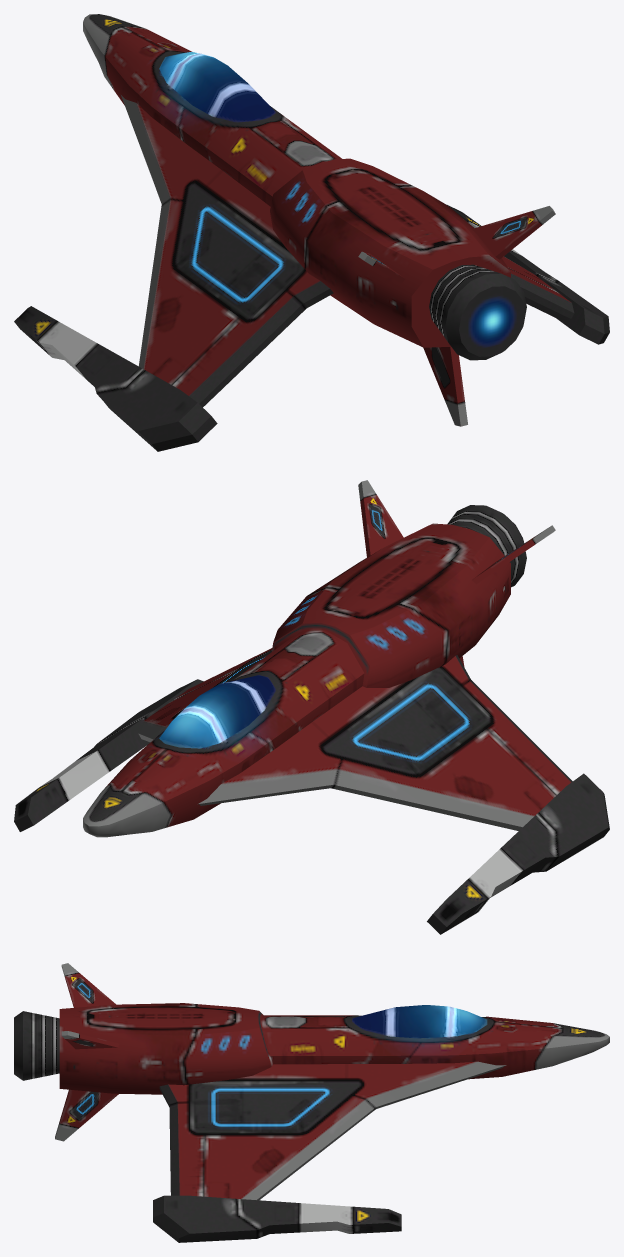
File: scout13.gltf
3 renders of one model, top to bottom at view 1: azimuth 30°, elevation 25°; view 2: azimuth 150°, elevation 25°; view 3: azimuth 270°, elevation 25°, orthographic. The views are drawn at different scales.
Visible parts, largest first — view 1: scout13; view 2: scout13; view 3: scout13.
Part boxes in pixels (<box>): scout13: <box>14,14,609,451</box>; scout13: <box>14,480,609,934</box>; scout13: <box>14,963,609,1242</box>.
Bounding box in the file's own units: 7.15 × 3.25 × 10.6.
1 material, 1 textured.
